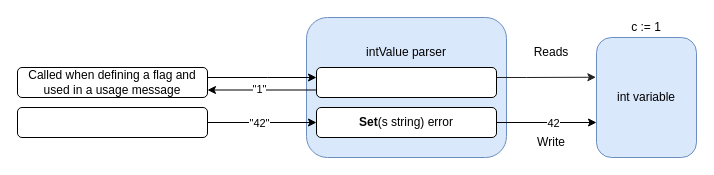
Image size: 714x175. Some labels were removed from this diagram. The shapes that lost their labels are listed below. From the top down, each one's box as (x1, y1, x2, y2) in pixels, then its label:
(316, 66, 496, 98): String () string
(16, 106, 208, 138): Called while parsing the flag
